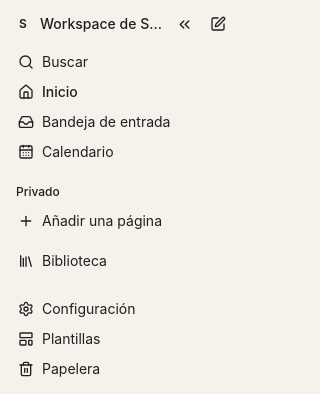
it: Workspace sidebar like Notion › opens Sergio’s tools from Configuración
What coordinates should you click on to do the following:
click the button "Configuración"
I would click on:
 (120, 309)
Its box is [8,294,232,324].
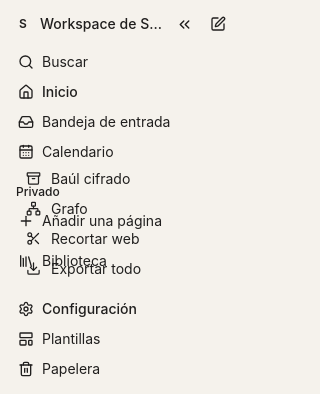
What coordinates should you click on to do the following:
click the menu item "Grafo"
I would click on:
 (122, 209)
Its box is [18,194,226,224].
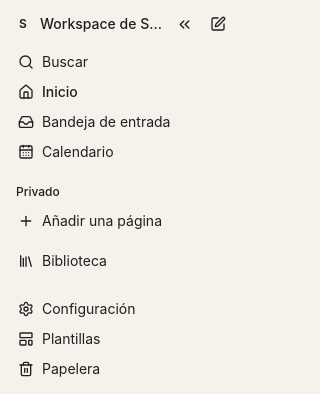
Expected: the menu is gone
